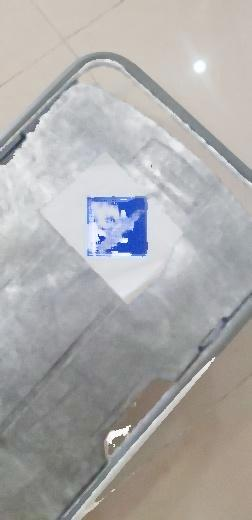dangerous-when-wet: (86, 197, 149, 258)
